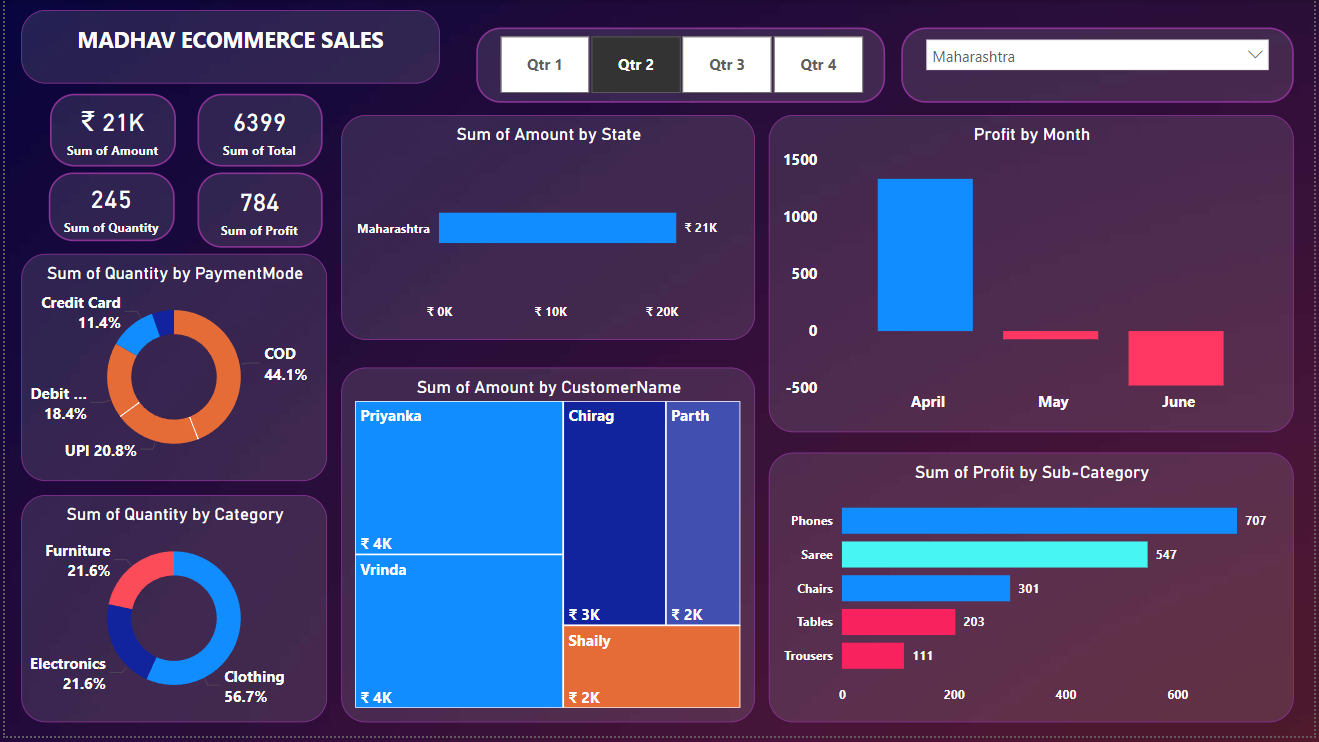

This screenshot's page, from the dashboard's own definition file:
{"tool":"powerbi","page":{"name":"Page 1","canvas":[1280,720],"ordinal":0},"visuals":[{"type":"textbox","box":[15.9,9.8,409.6,72.1],"z":0},{"type":"columnChart","title":"Profit by Month","fields":{"Category":["Orders.Order Date.Variation.Date Hierarchy.Month"],"Y":["Details.Profit"]},"box":[747.2,112.5,513.6,310.6],"z":1000},{"type":"donutChart","fields":{"Category":["Details.Category"],"Y":["Details.Quantity"]},"box":[15.9,484.2,299.6,222.6],"z":2000},{"type":"donutChart","fields":{"Y":["Details.Quantity"],"Category":["Details.PaymentMode"]},"box":[15.9,248.2,299.6,222.6],"z":3000},{"type":"card","fields":{"Values":["Details.Amount"]},"box":[44,91.7,123.5,70.9],"z":4000},{"type":"card","fields":{"Values":["Details.Quantity"]},"box":[42.8,168.8,123.5,67.3],"z":5000},{"type":"card","fields":{"Values":["Details.Profit"]},"box":[188.3,168.8,122.3,73.4],"z":6000},{"type":"card","fields":{"Values":["Details.Total"]},"box":[188.3,91.7,122.3,70.9],"z":7000},{"type":"barChart","fields":{"Category":["Details.Sub-Category"],"Y":["Details.Profit"]},"box":[747.2,442.7,513.6,264.1],"z":8000},{"type":"barChart","fields":{"Category":["Orders.State"],"Y":["Details.Amount"]},"box":[328.9,112.5,404.8,220.1],"z":9000},{"type":"treemap","fields":{"Group":["Orders.CustomerName"],"Values":["Details.Amount"]},"box":[328.9,359.5,404.8,347.3],"z":10000},{"type":"slicer","fields":{"Values":["Orders.Order Date.Variation.Date Hierarchy.Quarter"]},"box":[461,26.9,399.9,73.4],"z":11000},{"type":"slicer","fields":{"Values":["Orders.State"]},"box":[876.8,26.9,384,73.4],"z":12000}]}

Visuals, with their boxes in screenshot pixels (x1, y1, x2, y2), scaled from the page's 1280x720 canvas onto the 1319x742 screenshot:
textbox: locate(16, 10, 438, 84)
"Profit by Month" columnChart: locate(770, 116, 1299, 436)
donutChart - Details.Category x Details.Quantity: locate(16, 499, 325, 728)
donutChart - Details.Quantity x Details.PaymentMode: locate(16, 256, 325, 485)
card - Details.Amount: locate(45, 95, 173, 168)
card - Details.Quantity: locate(44, 174, 171, 243)
card - Details.Profit: locate(194, 174, 320, 250)
card - Details.Total: locate(194, 95, 320, 168)
barChart - Details.Sub-Category x Details.Profit: locate(770, 456, 1299, 728)
barChart - Orders.State x Details.Amount: locate(339, 116, 756, 343)
treemap - Orders.CustomerName x Details.Amount: locate(339, 370, 756, 728)
slicer - Orders.Order Date.Variation.Date Hierarchy.Quarter: locate(475, 28, 887, 103)
slicer - Orders.State: locate(904, 28, 1299, 103)
